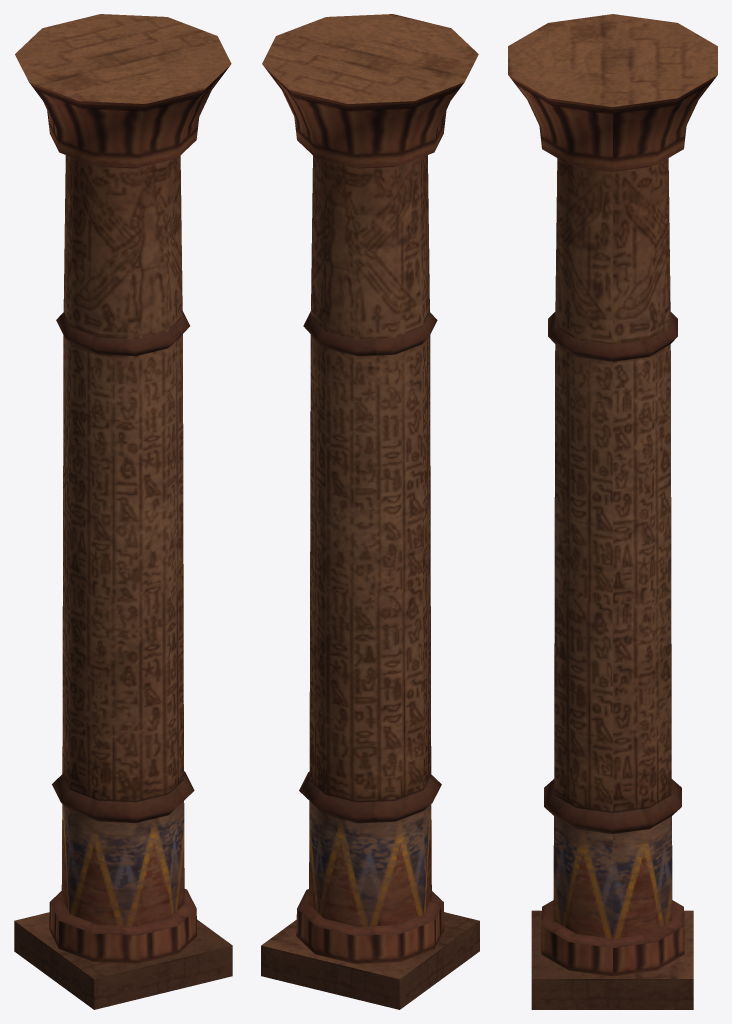
File: Pillar_High_02.FBX
The picture shows the model from 3 angles, left to right: view 1: azimuth 30°, elevation 25°; view 2: azimuth 150°, elevation 25°; view 3: azimuth 270°, elevation 25°; orthographic projection.
Parts seen in each view (by area): view 1: Pillar_High_02; view 2: Pillar_High_02; view 3: Pillar_High_02.
Boxes of the visible parts, x1,y1,x2,y2 form: Pillar_High_02: [14, 14, 232, 1009]; Pillar_High_02: [261, 14, 479, 1009]; Pillar_High_02: [508, 14, 717, 1009].
Size of the model in its own units: 46.01 by 211 by 43.76.
Materials: 1 (1 with a texture image).
